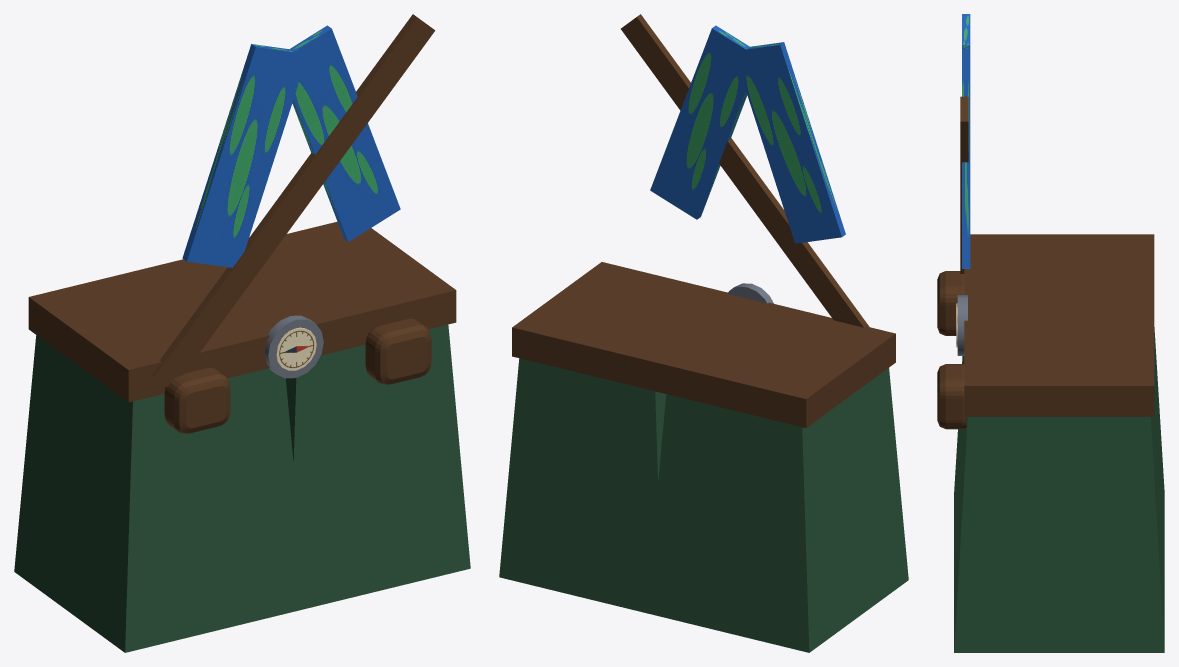
Rendered from eqf_eqsa0.glb.
3 views of the same model, side by side, from view 1: azimuth 30°, elevation 25°; view 2: azimuth 150°, elevation 25°; view 3: azimuth 270°, elevation 25° (orthographic). The views are drawn at different scales.
Size of the model in its own units: 2.24 by 3.52 by 1.34.
6 materials, 3 textured.
